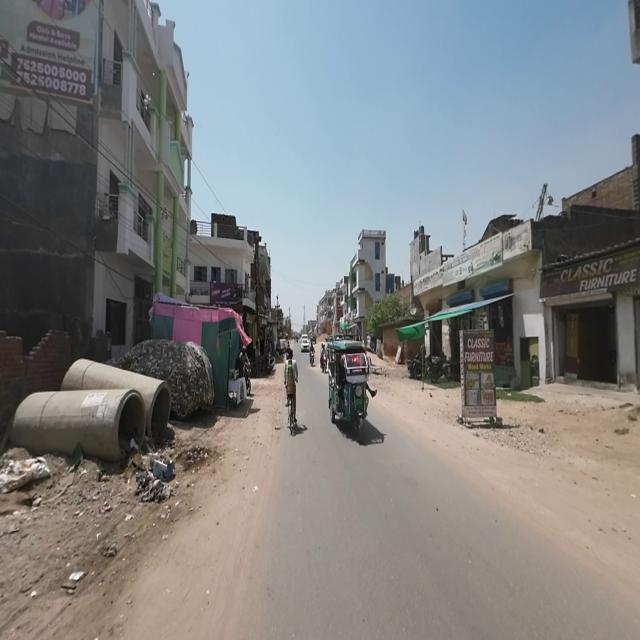Garbage: (135, 455, 177, 504), (183, 442, 210, 472)
